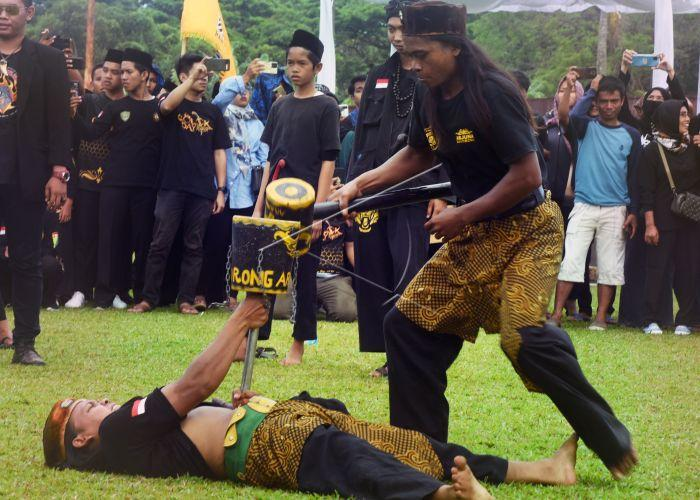facao: (241, 329, 258, 391)
